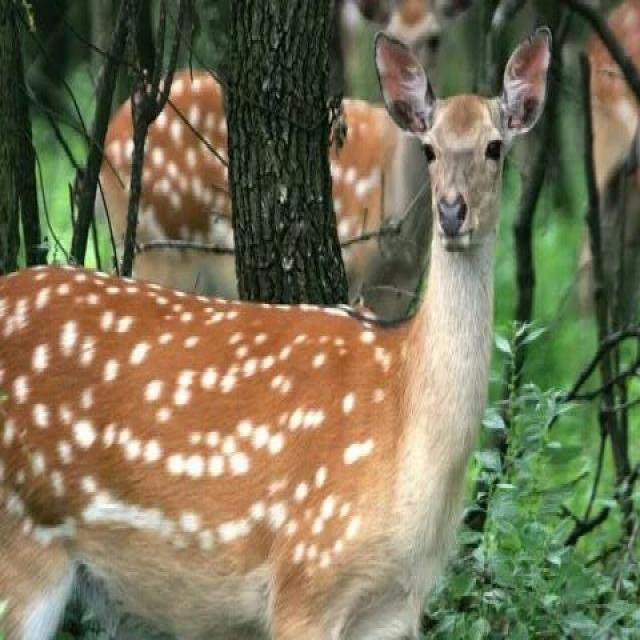deer: (0, 13, 546, 599)
